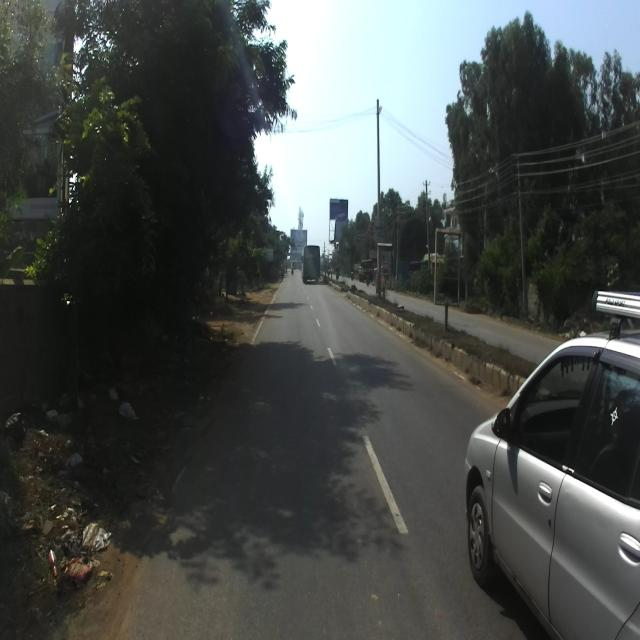car: (465, 290, 640, 640)
